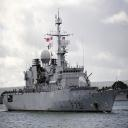Fragata: (3, 9, 121, 115)
